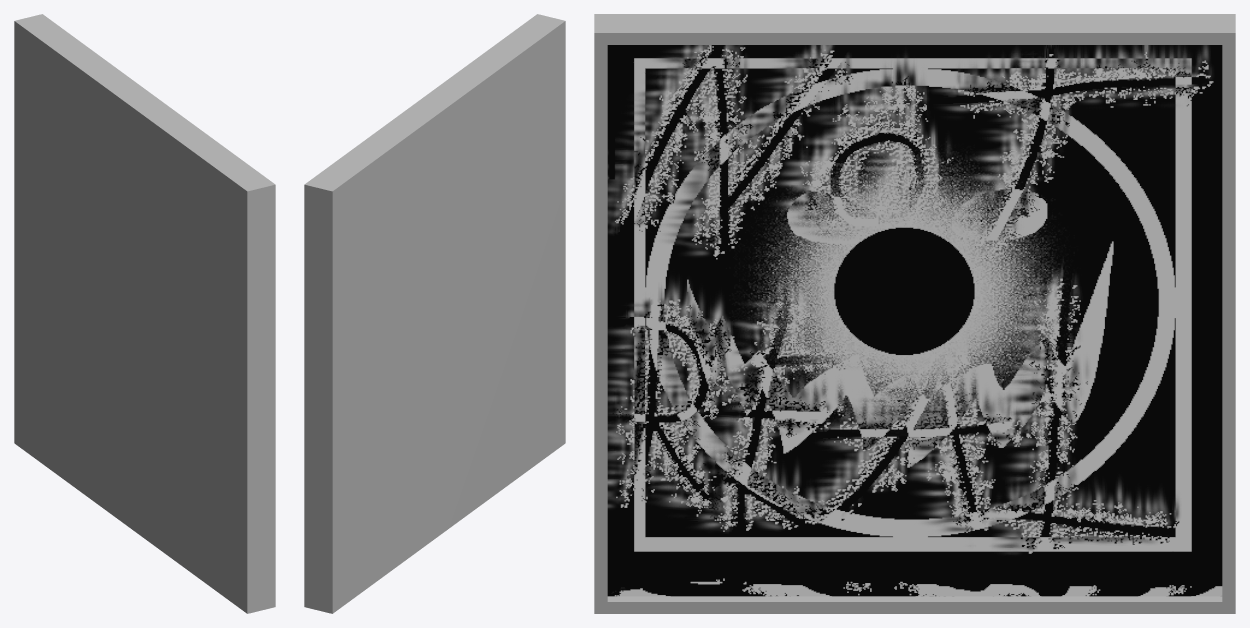
File: NotReal.fbx
The picture shows the model from 3 angles, left to right: view 1: azimuth 30°, elevation 25°; view 2: azimuth 150°, elevation 25°; view 3: azimuth 270°, elevation 25°; orthographic projection. The views are drawn at different scales.
Parts seen in each view (by area): view 1: Cube; view 2: Cube; view 3: Cube.
Boxes of the visible parts, x1,y1,x2,y2 form: Cube: (14, 14, 275, 613); Cube: (304, 14, 565, 613); Cube: (594, 14, 1235, 613).
Size of the model in its own units: 68.2 by 977 by 977.
